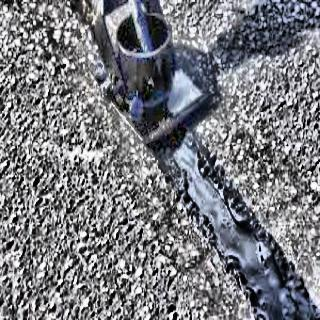crack: (164, 135, 318, 320)
